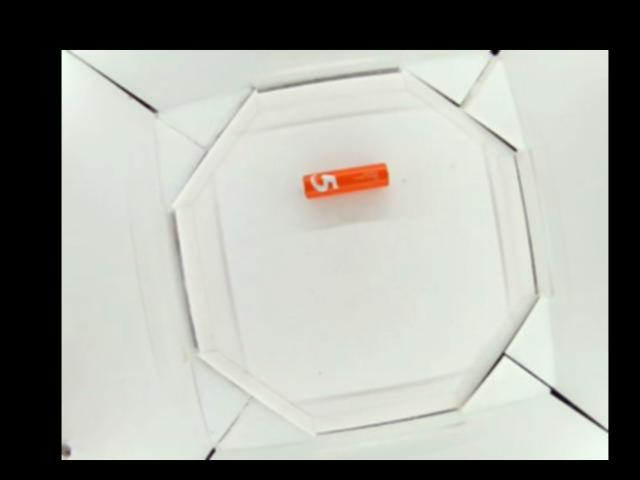Battery: (304, 163, 391, 194)
